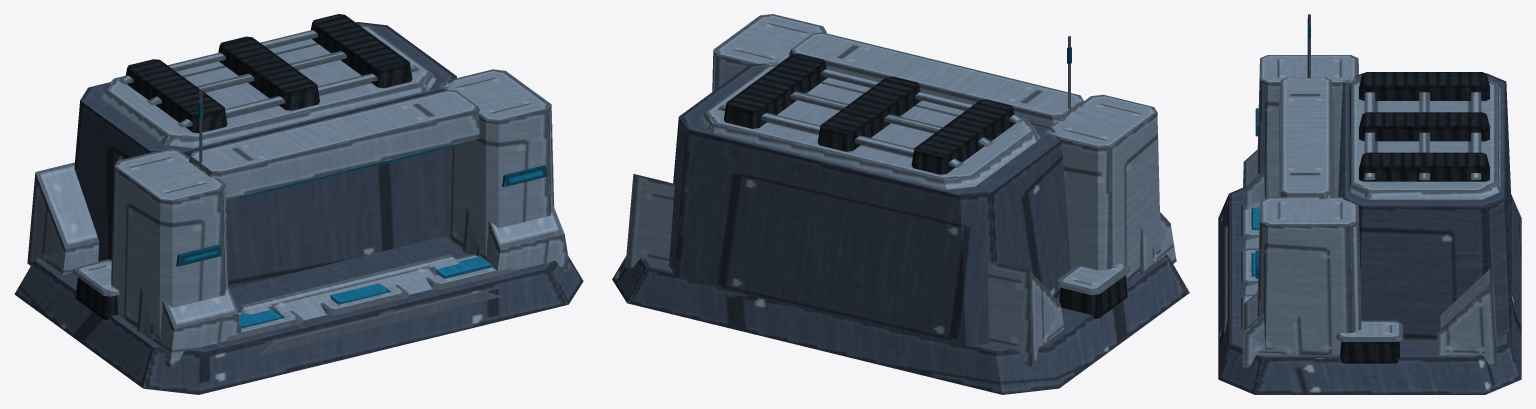
The model's file is building-material_storage.fbx.
3 views of the same model, side by side, from view 1: azimuth 30°, elevation 25°; view 2: azimuth 150°, elevation 25°; view 3: azimuth 270°, elevation 25° (orthographic). The views are drawn at different scales.
Visible parts, largest first — view 1: building-material_storage; view 2: building-material_storage; view 3: building-material_storage.
Boxes of the visible parts, box(x1,y1,x2,y2) form: building-material_storage: box(14, 14, 583, 394); building-material_storage: box(612, 14, 1189, 394); building-material_storage: box(1218, 14, 1521, 394).
Bounding box in the file's own units: 2184 × 1200 × 1456.
Materials: 1 (1 with a texture image).
